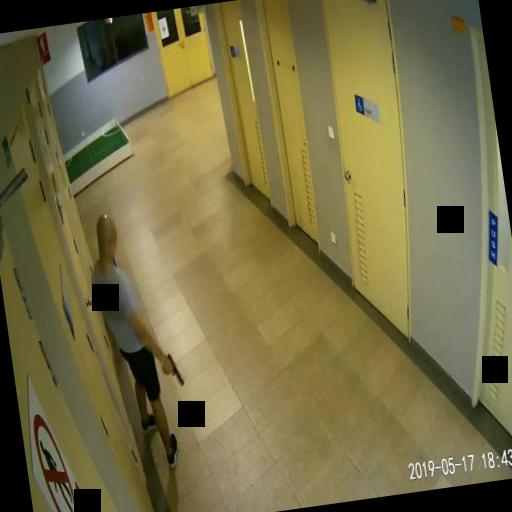Handgun: (160, 349, 182, 388)
